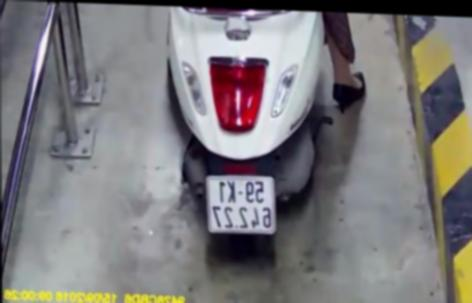License_Plate: (198, 168, 282, 239)
